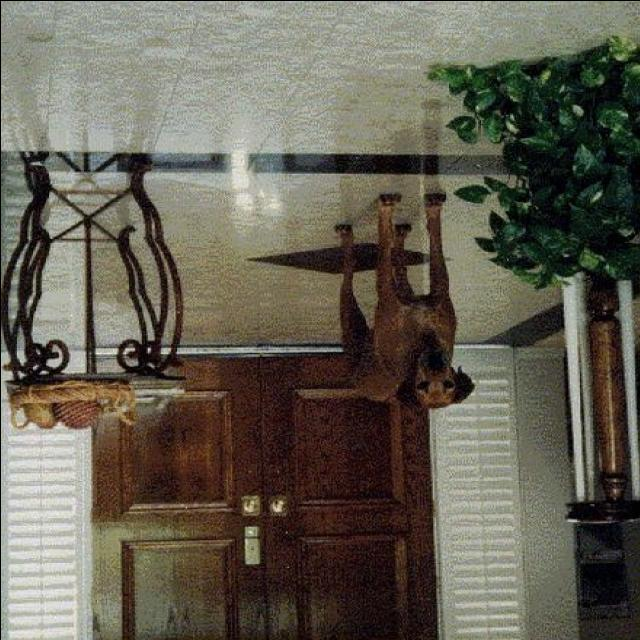rhodesian_ridgeback: (332, 190, 476, 412)
